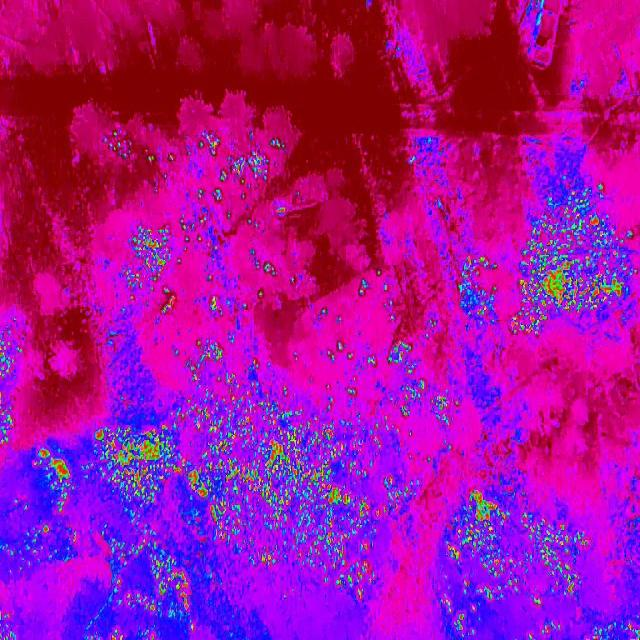fire: (88, 395, 400, 640), (436, 484, 589, 640), (510, 184, 640, 334), (11, 438, 73, 577), (386, 342, 457, 427), (196, 130, 288, 190), (183, 344, 287, 394), (124, 223, 172, 316), (455, 247, 504, 336), (0, 324, 25, 451), (178, 207, 228, 269), (209, 295, 249, 321), (589, 620, 640, 640), (327, 342, 352, 368), (356, 276, 372, 300), (260, 260, 276, 280)
